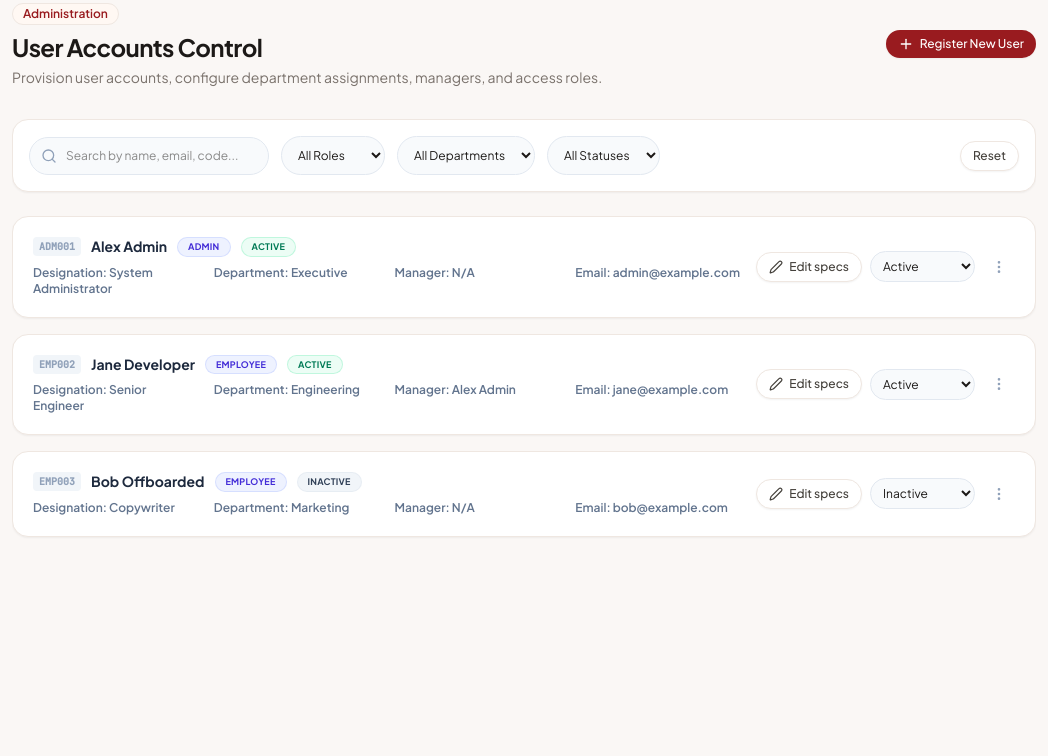
Test case: Admin Workspace: Safe User Deletion & Action Menu UX › opens Edit User modal from More Actions menu
Expected: the heading "Jane Developer" is shown, x1=91 y1=355 x2=195 y2=374
Click the button named "more actions for jane developer" at point(999, 384), box x1=983 y1=368 x2=1015 y2=400
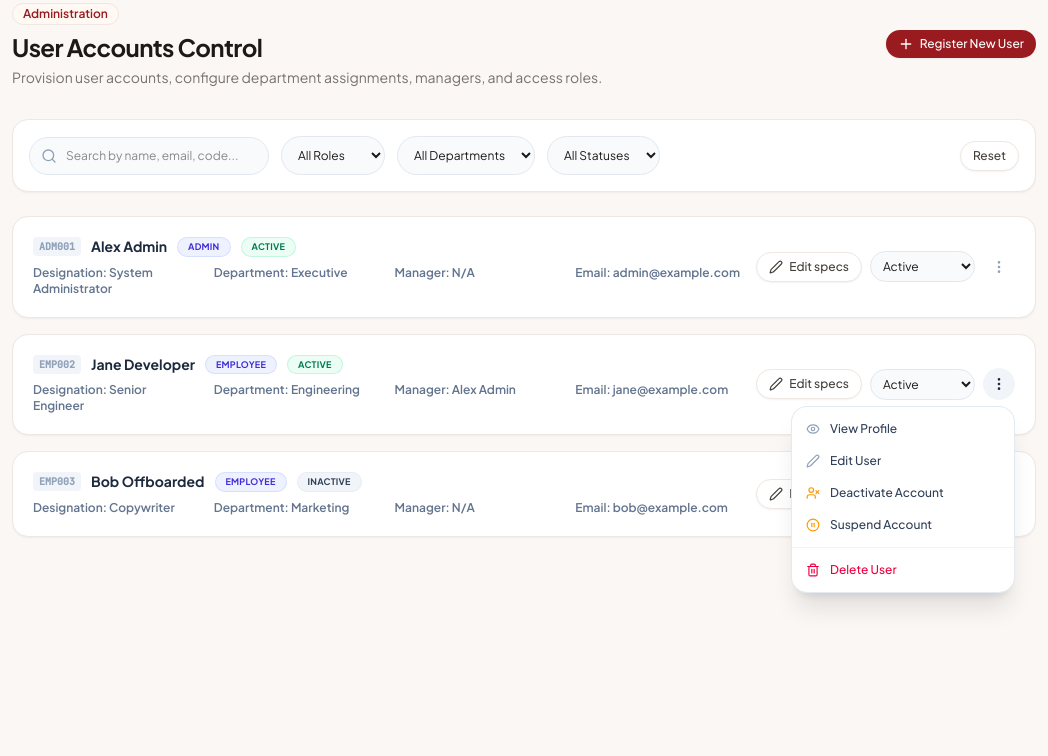
Click the menu item "Edit User" at point(903, 461), box x1=792 y1=445 x2=1014 y2=477
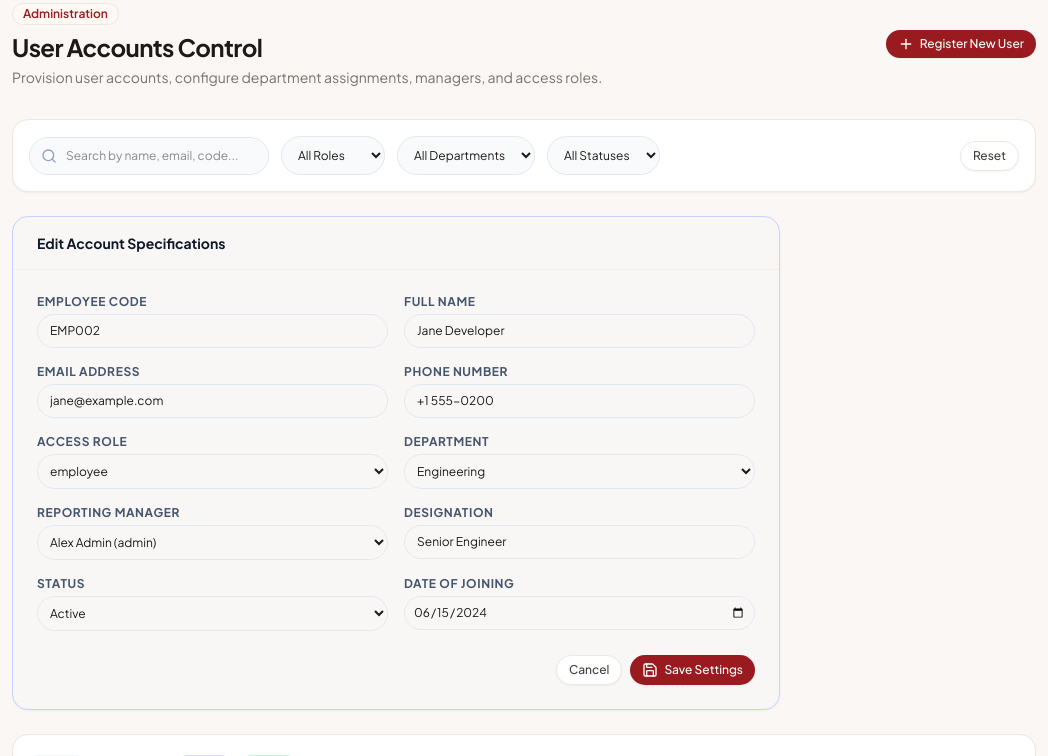
Now the heading "Edit Account Specifications" is shown, box x1=37 y1=233 x2=226 y2=253
